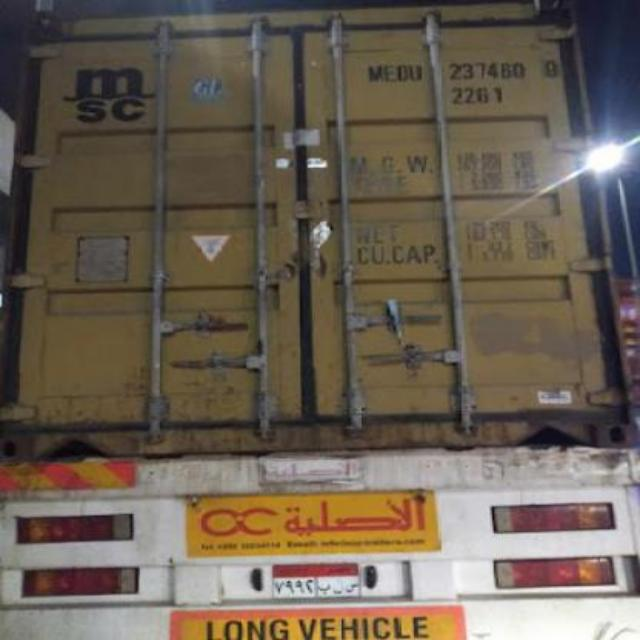0: (512, 60, 528, 82)
2: (448, 62, 462, 82)
3: (460, 62, 476, 82)
4: (486, 60, 499, 82)
6: (500, 60, 512, 82)
7: (474, 60, 488, 82)
9: (544, 56, 560, 80)
D: (396, 62, 409, 84)
E: (382, 64, 398, 82)
M: (366, 62, 384, 84)
U: (408, 62, 424, 84)
